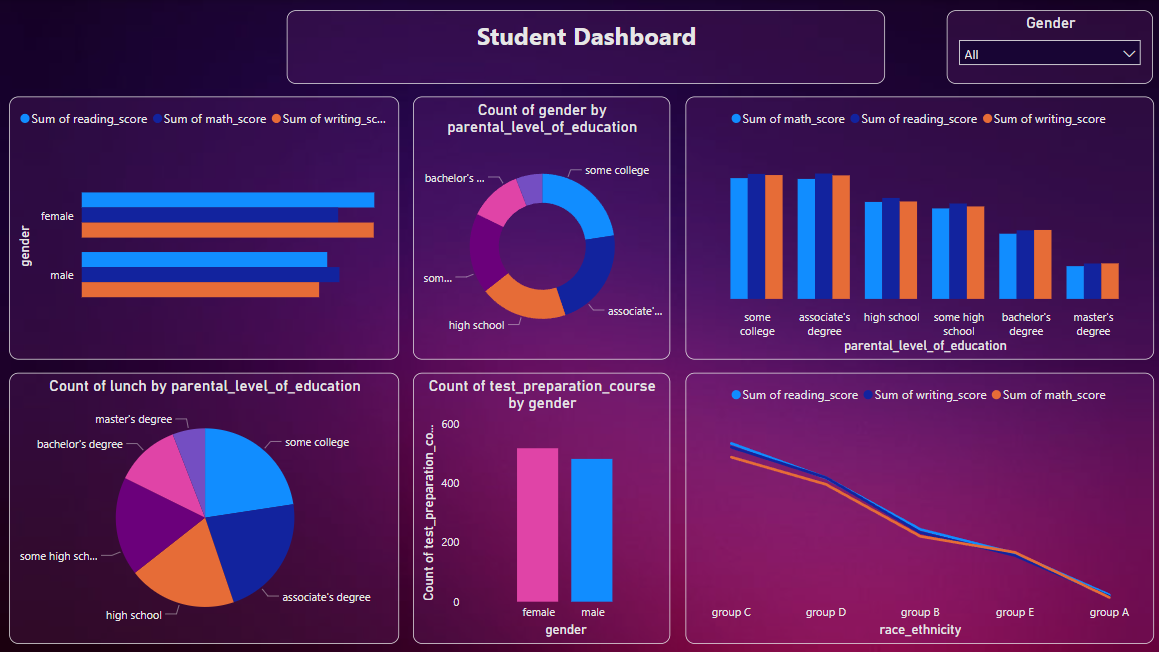

This screenshot's page, from the dashboard's own definition file:
{"tool":"powerbi","page":{"name":"Page 1","canvas":[1280,720],"ordinal":0},"visuals":[{"type":"lineChart","fields":{"Category":["stud.race_ethnicity"],"Y":["Sum(stud.reading_score)","Sum(stud.writing_score)","Sum(stud.math_score)"]},"box":[754.2,409.9,514,297.3],"z":0},{"type":"textbox","box":[317.5,11.8,656.8,80.6],"z":1000},{"type":"columnChart","fields":{"Category":["stud.gender"],"Y":["CountNonNull(stud.test_preparation_course)"]},"box":[455.2,409.9,282.2,297.3],"z":2000},{"type":"slicer","title":"Gender","fields":{"Values":["stud.gender"]},"box":[1041.5,11.8,226.8,80.6],"z":3000},{"type":"donutChart","fields":{"Category":["stud.parental_level_of_education"],"Y":["CountNonNull(stud.gender)"]},"box":[455.2,107.5,282.2,288.9],"z":4000},{"type":"pieChart","fields":{"Y":["CountNonNull(stud.lunch)"],"Category":["stud.parental_level_of_education"]},"box":[11.8,409.9,428.3,297.3],"z":5000},{"type":"clusteredColumnChart","fields":{"Y":["Sum(stud.math_score)","Sum(stud.reading_score)","Sum(stud.writing_score)"],"Category":["stud.parental_level_of_education"]},"box":[754.2,107.5,514,288.9],"z":6000},{"type":"clusteredBarChart","fields":{"Category":["stud.gender"],"Y":["Sum(stud.reading_score)","Sum(stud.math_score)","Sum(stud.writing_score)"]},"box":[11.8,107.5,428.3,288.9],"z":7000}]}

Visuals, with their boxes in screenshot pixels (x1, y1, x2, y2), scaled from the page's 1280x720 canvas onto the 1159x652 screenshot:
lineChart - stud.race_ethnicity x Sum(stud.reading_score): x1=683, y1=371, x2=1148, y2=640
textbox: x1=287, y1=11, x2=882, y2=84
columnChart - stud.gender x CountNonNull(stud.test_preparation_course): x1=412, y1=371, x2=668, y2=640
"Gender" slicer: x1=943, y1=11, x2=1148, y2=84
donutChart - stud.parental_level_of_education x CountNonNull(stud.gender): x1=412, y1=97, x2=668, y2=359
pieChart - CountNonNull(stud.lunch) x stud.parental_level_of_education: x1=11, y1=371, x2=398, y2=640
clusteredColumnChart - Sum(stud.math_score) x Sum(stud.reading_score): x1=683, y1=97, x2=1148, y2=359
clusteredBarChart - stud.gender x Sum(stud.reading_score): x1=11, y1=97, x2=398, y2=359
